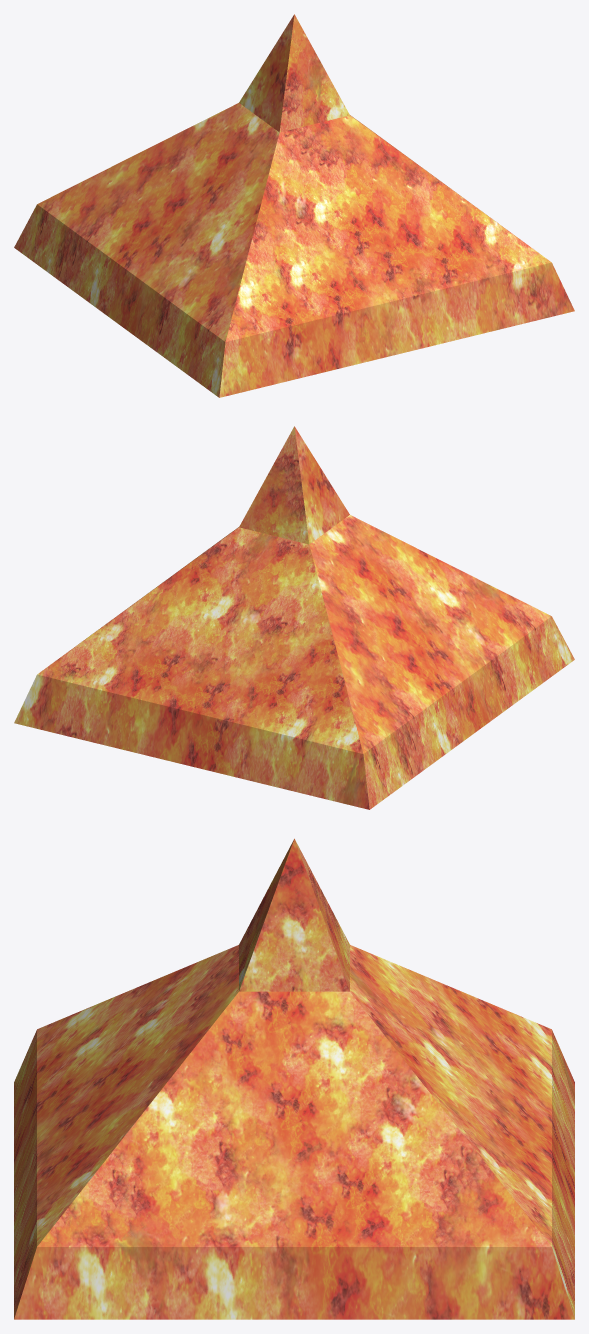
The model's file is SM_ICE_04_00.fbx.
3 views of the same model, one above another, from view 1: azimuth 30°, elevation 25°; view 2: azimuth 150°, elevation 25°; view 3: azimuth 270°, elevation 25° (orthographic). The views are drawn at different scales.
Visible parts, largest first — view 1: SM_ICE_04_00; view 2: SM_ICE_04_00; view 3: SM_ICE_04_00.
Part boxes in pixels (<box>): SM_ICE_04_00: <box>14,14,574,397</box>; SM_ICE_04_00: <box>14,426,574,809</box>; SM_ICE_04_00: <box>14,838,574,1319</box>.
Bounding box in the file's own units: 3395 × 2421 × 3395.
